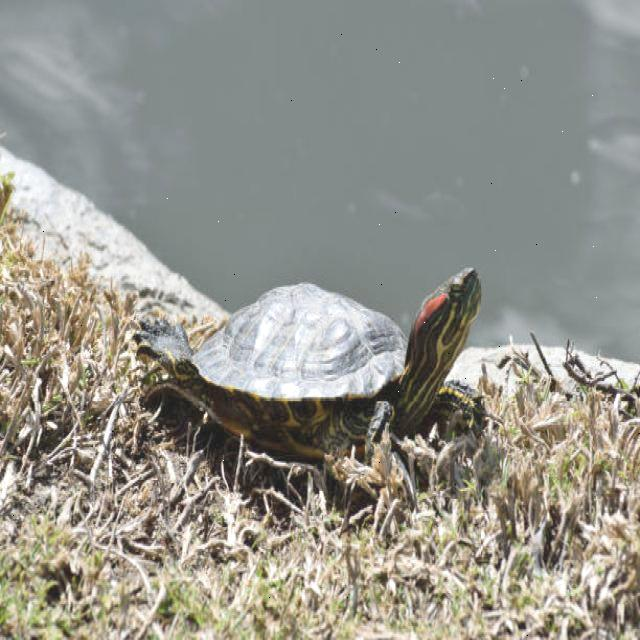tortoise: (195, 269, 517, 471)
